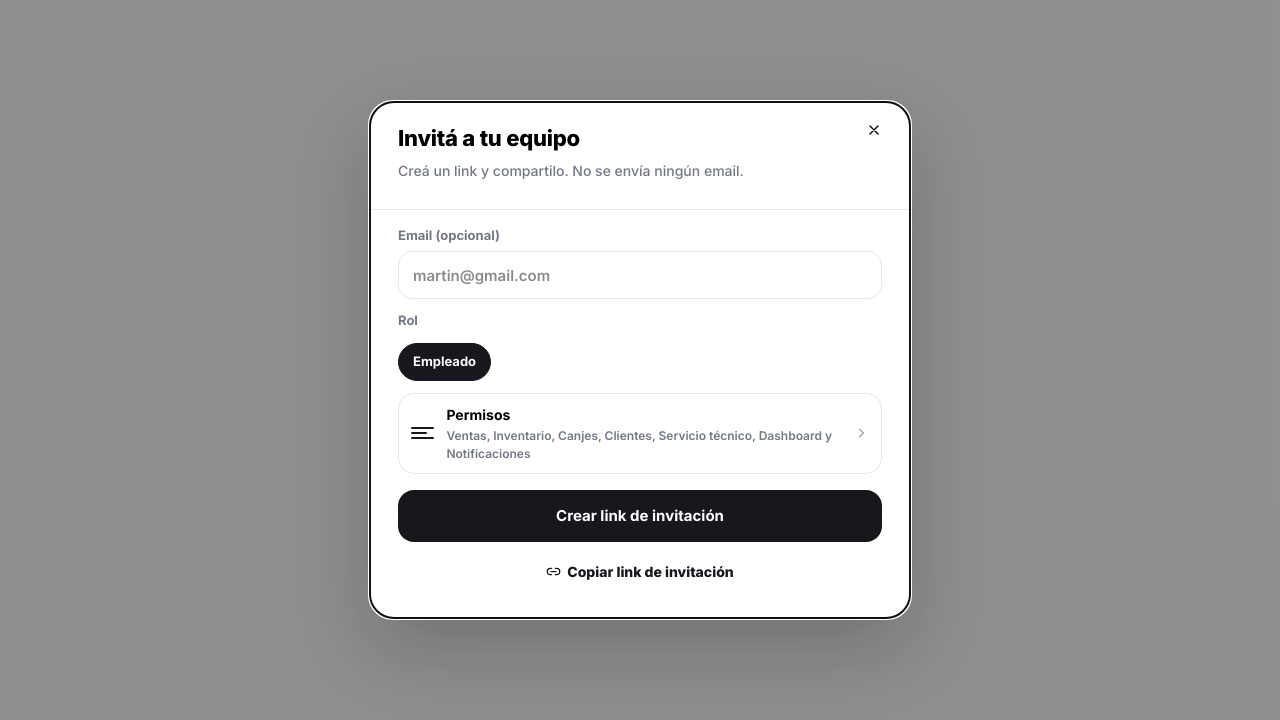
Test case: link invitations › copies a link without requiring the optional email
This screenshot has width=1280, height=720.
Click the button with test id "invite-copy" at (640, 572), box [398,550,882,594]
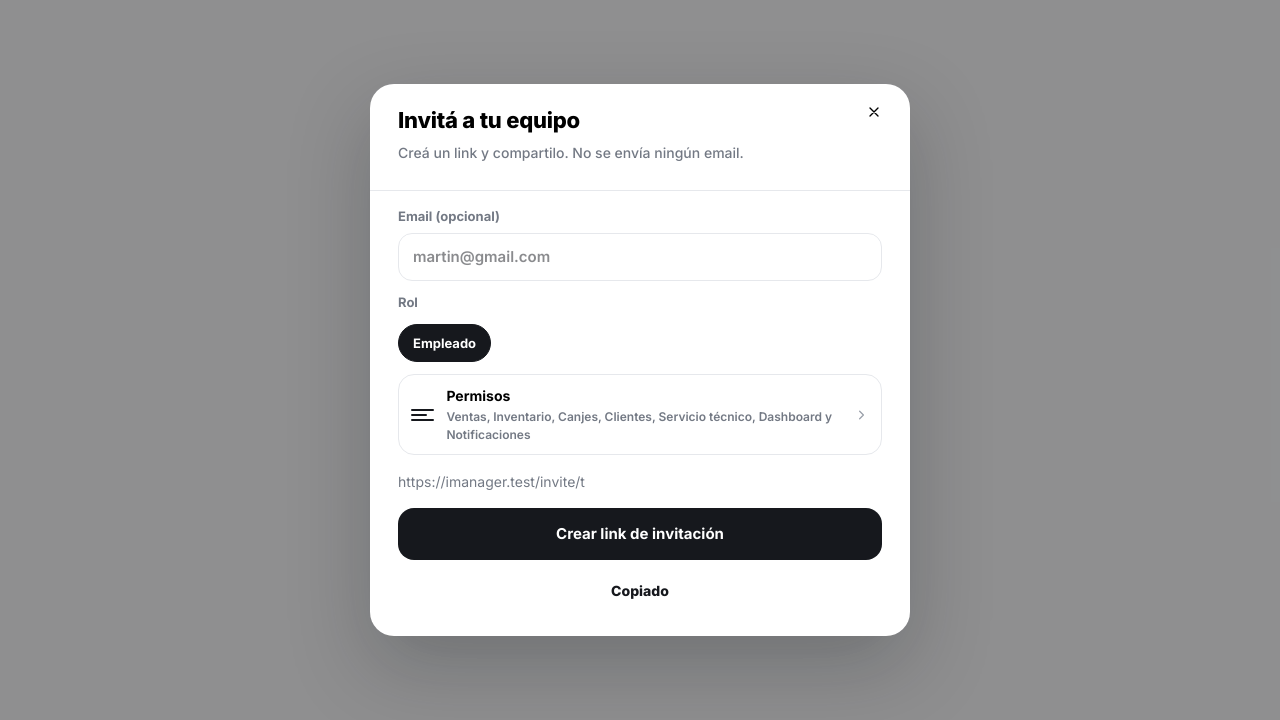
Now the text with test id "invite-url" reads "https://imanager.test/invite/t", box [398,473,585,490]
